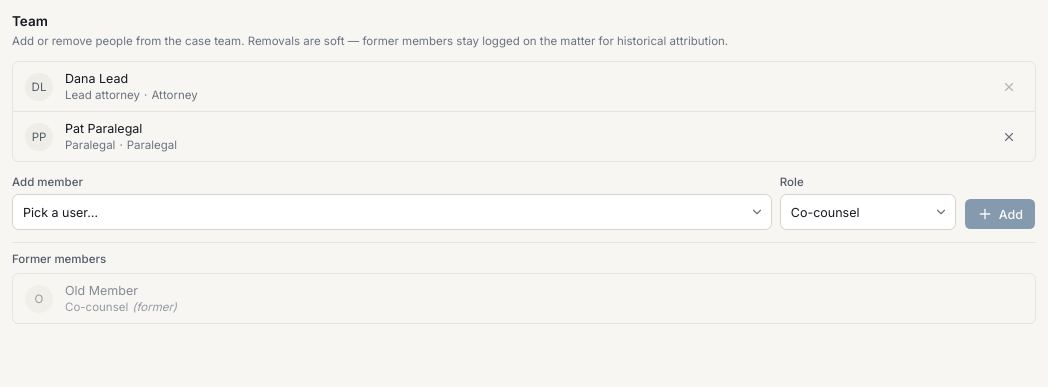
Test: MatterTeamManagement › shows the server's error message in the banner
Select "Nia New · Associate" in the dropdown labelled "Add member" at (392, 212), box x1=12 y1=194 x2=772 y2=230
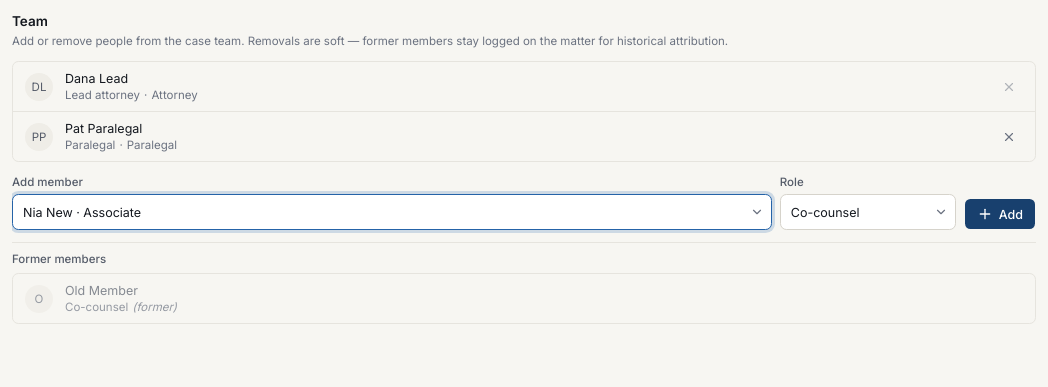
Click the button "Add" at (1000, 214), box x1=964 y1=198 x2=1036 y2=230
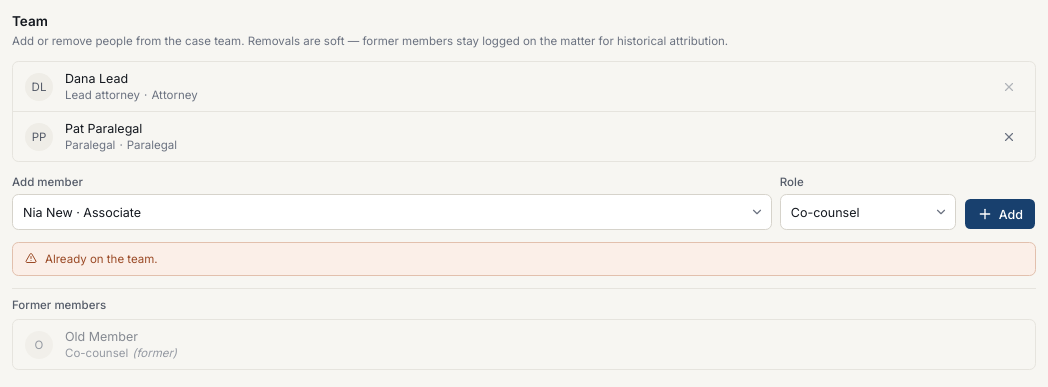
Expected: the text "Already on the team." is shown, x1=45 y1=251 x2=158 y2=267
